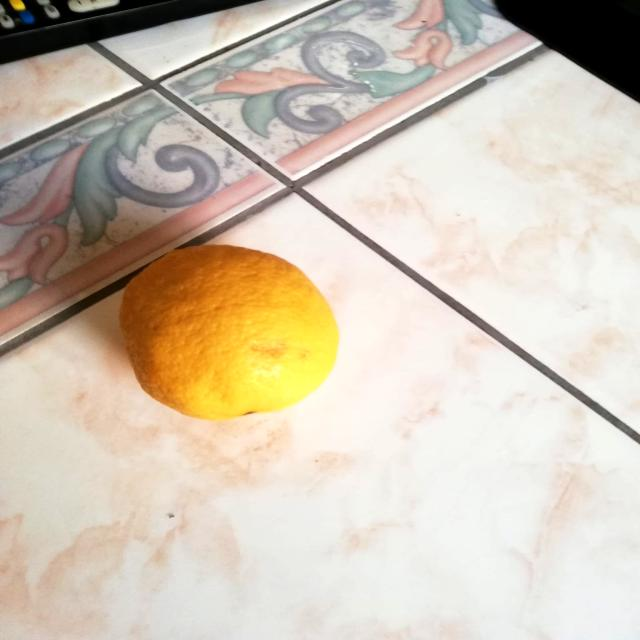lemon: (107, 230, 347, 426)
